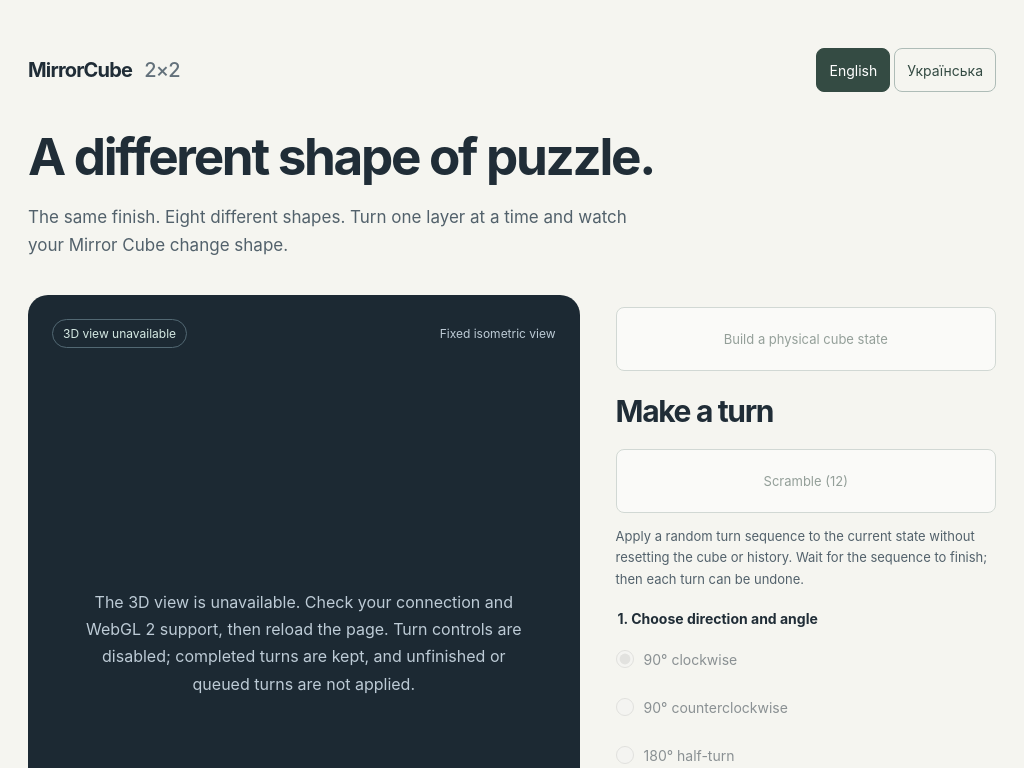
Test: asynchronous graphics loading › uses the existing localized failure path for a rejected graphics chunk, without false readiness or retry loops
expect the message shows "The 3D view is unavailable. Check your connection and WebGL 2 support, then reload the page. Turn controls are disabled; completed turns are kept, and unfinishe": met, box [86,592,522,694]
Click the button "Українська" at [945, 70], box [894,48,996,92]
(page scrolled)
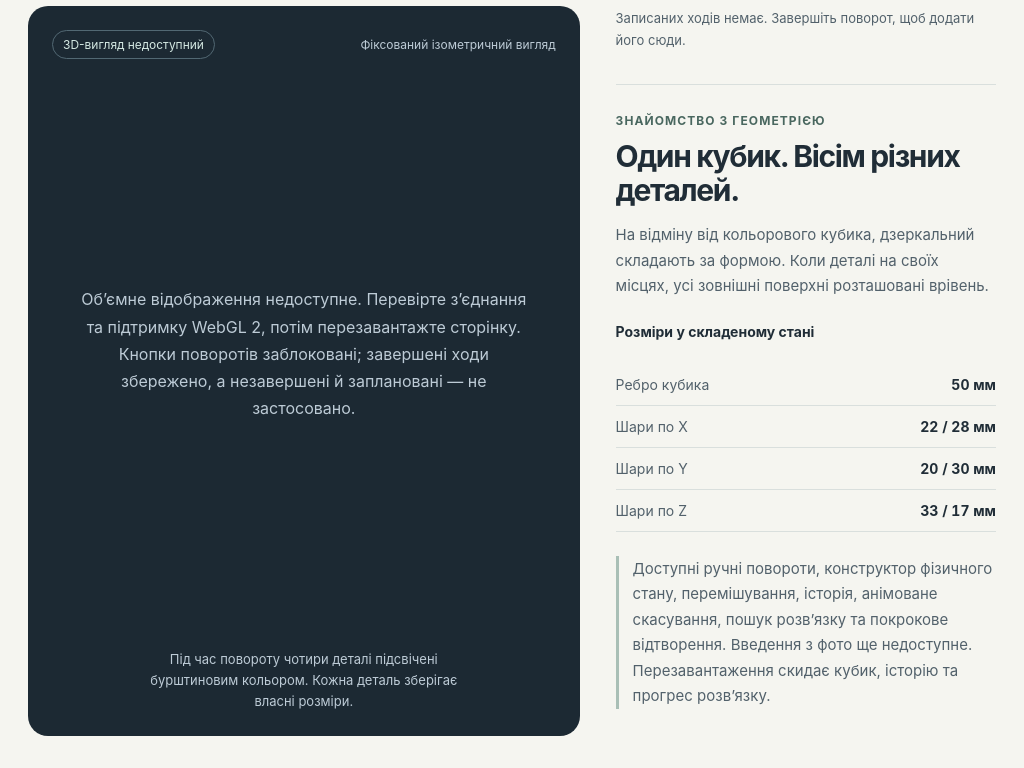
expect the text "50 мм" is shown: met, box [951,376,996,393]
